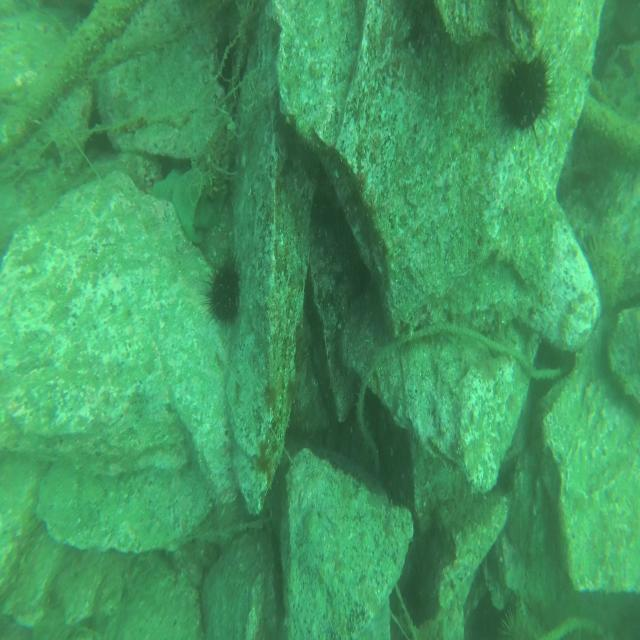echinus: (487, 54, 558, 144), (202, 253, 248, 329), (493, 593, 547, 635)
holothurian: (582, 237, 626, 293), (502, 488, 531, 562)
